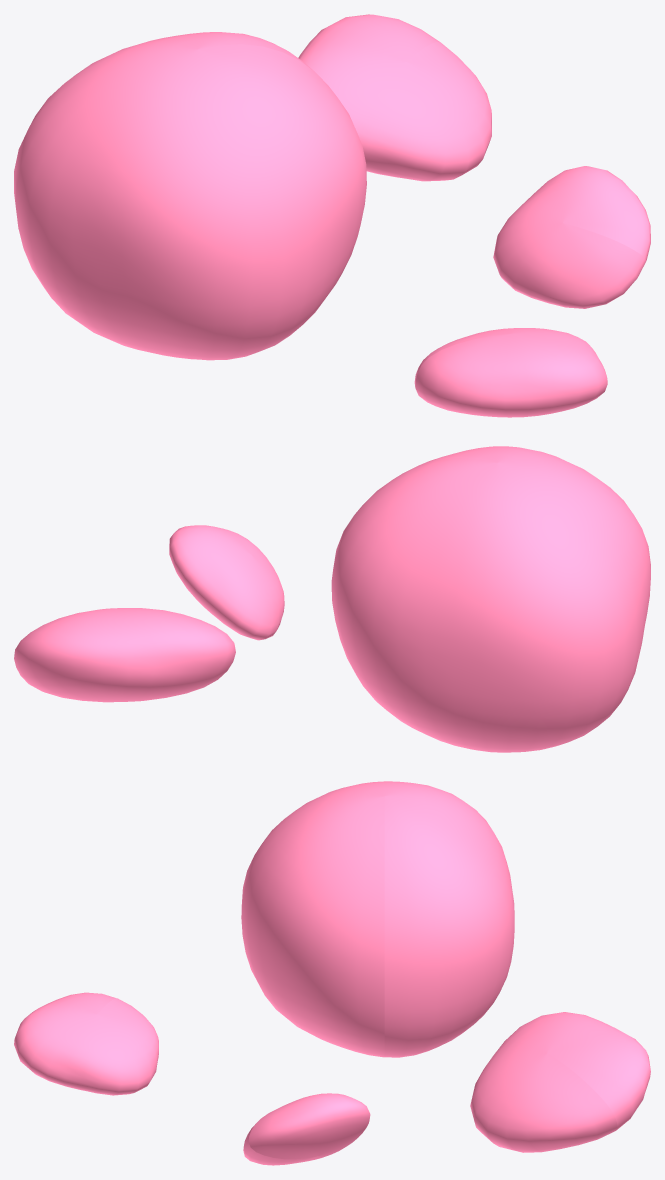
Rendered from LovenseTipJar_Core.dae.
3 renders of one model, top to bottom at view 1: azimuth 30°, elevation 25°; view 2: azimuth 150°, elevation 25°; view 3: azimuth 270°, elevation 25°, orthographic. The views are drawn at different scales.
Visible parts, largest first — view 1: Core; view 2: Core; view 3: Core.
Boxes of the visible parts, <box> form: Core: <box>14,14,650,417</box>; Core: <box>14,446,650,752</box>; Core: <box>14,781,650,1165</box>.
Size of the model in its own units: 0.0623 by 0.0759 by 0.032.
